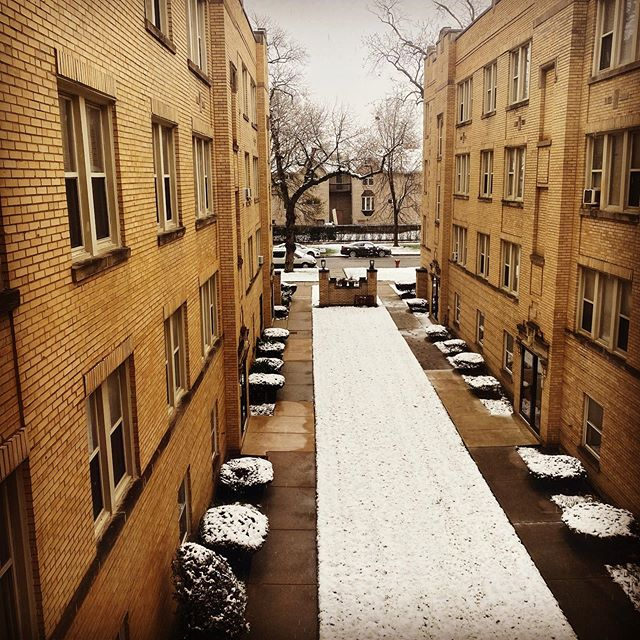building: (1, 13, 264, 640), (424, 15, 640, 640)
sky: (278, 1, 417, 138)
tree: (271, 103, 380, 280), (354, 108, 427, 263)
